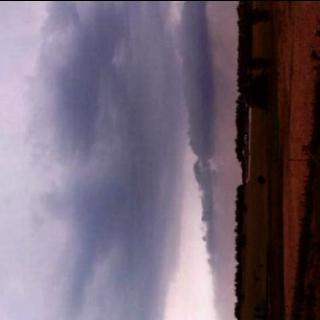Stratus: (0, 0, 228, 320)
